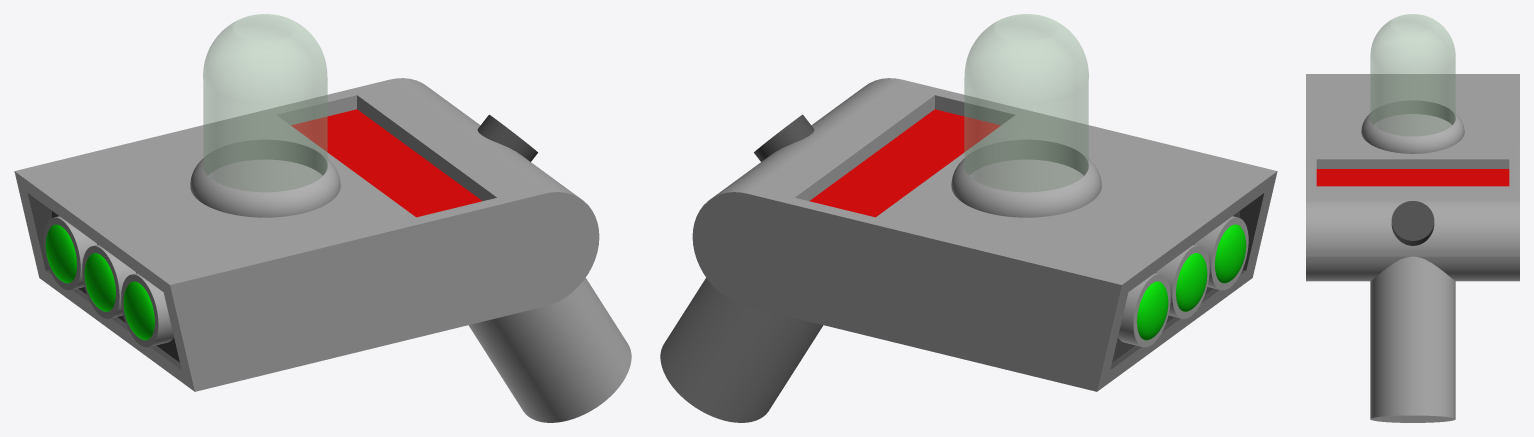
File: PortalGun.fbx
3 views of the same model, side by side, from view 1: azimuth 30°, elevation 25°; view 2: azimuth 150°, elevation 25°; view 3: azimuth 270°, elevation 25° (orthographic). The views are drawn at different scales.
Visible parts, largest first — view 1: pCylinder6; view 2: pCylinder6; view 3: pCylinder6.
Boxes of the visible parts, <box> form: pCylinder6: <box>14,14,631,422</box>; pCylinder6: <box>660,14,1277,422</box>; pCylinder6: <box>1306,14,1519,422</box>.
Bounding box in the file's own units: 1.97 × 1.61 × 1.
